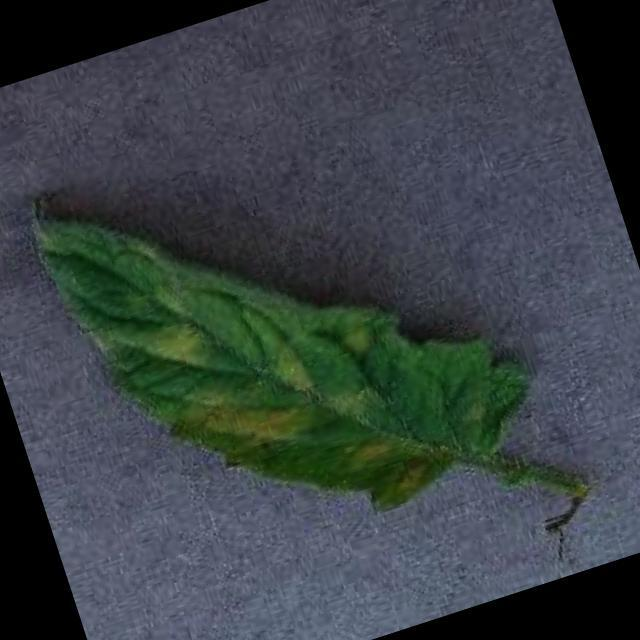Tomato mold leaf: (19, 71, 558, 598)
